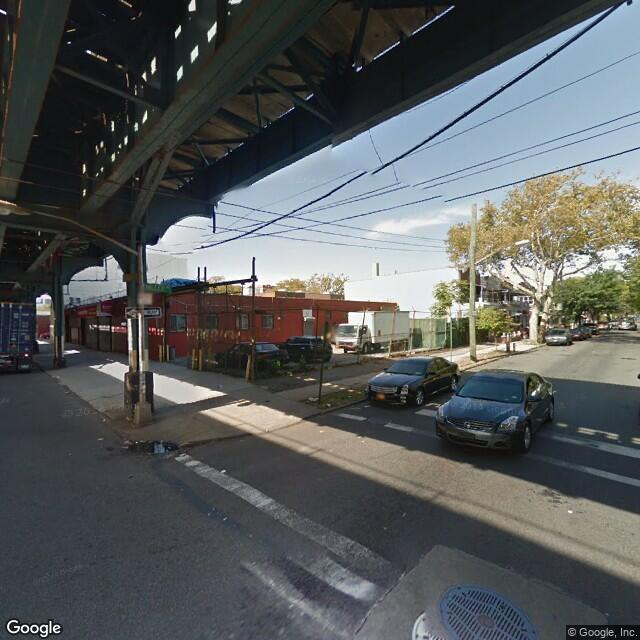litter: (51, 371, 60, 380), (97, 436, 105, 444), (99, 417, 109, 423), (567, 509, 574, 515), (401, 513, 408, 519), (309, 396, 318, 400), (382, 527, 389, 531), (219, 469, 226, 473), (325, 402, 332, 405)
